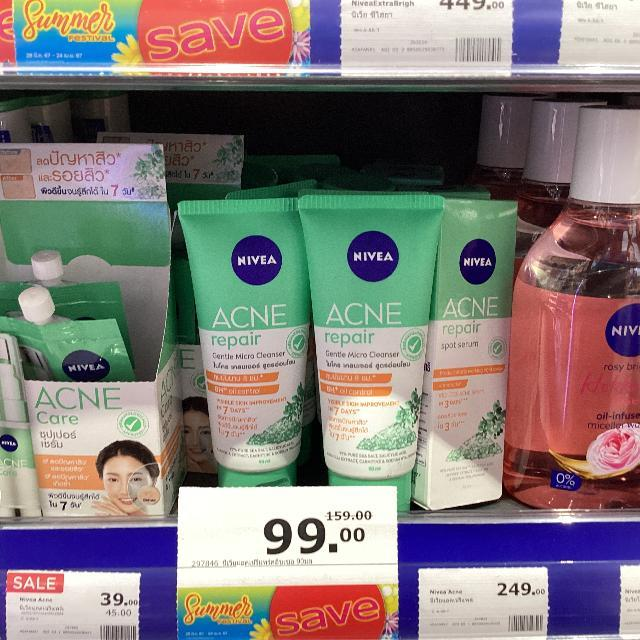Squeeze Tube: (166, 169, 536, 522), (292, 196, 434, 501), (180, 201, 310, 482)
